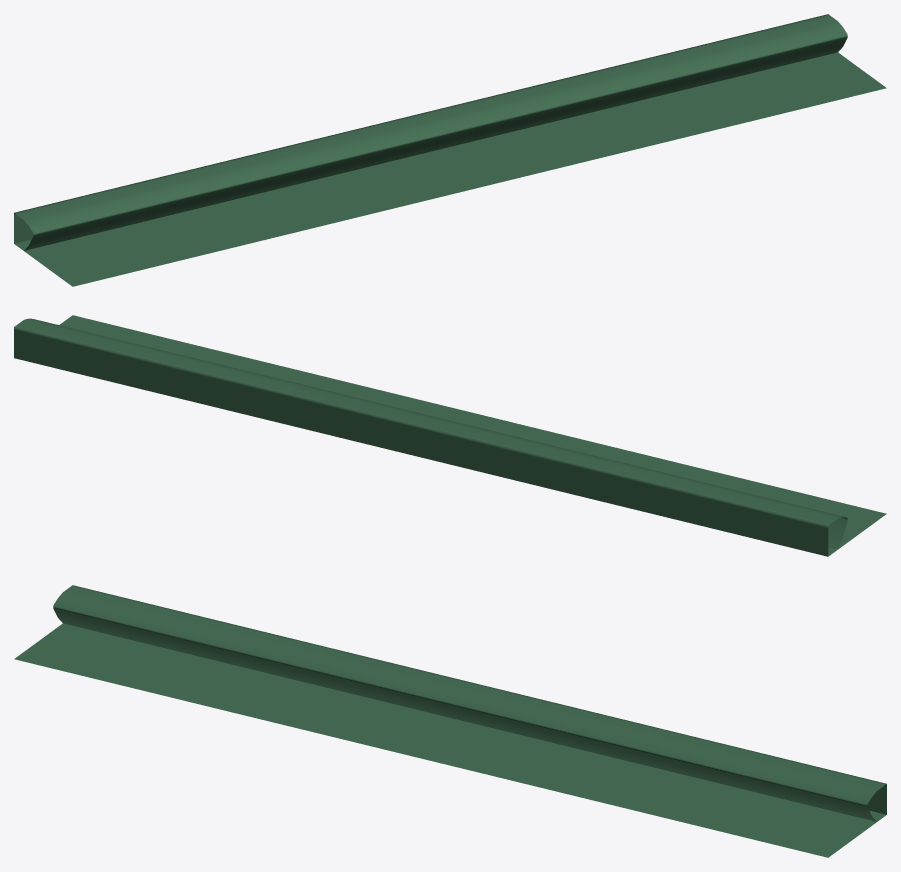
Rendered from table_cushion_straight_a.fbx.
The picture shows the model from 3 angles, top to bottom: view 1: azimuth 30°, elevation 25°; view 2: azimuth 150°, elevation 25°; view 3: azimuth 330°, elevation 25°; orthographic projection.
Parts seen in each view (by area): view 1: lod0; view 2: lod0; view 3: lod0.
Boxes of the visible parts, bbox=[...] form: lod0: bbox=[14, 14, 886, 286]; lod0: bbox=[14, 315, 886, 556]; lod0: bbox=[14, 585, 886, 857].
Size of the model in its own units: 48 by 1.75 by 6.
